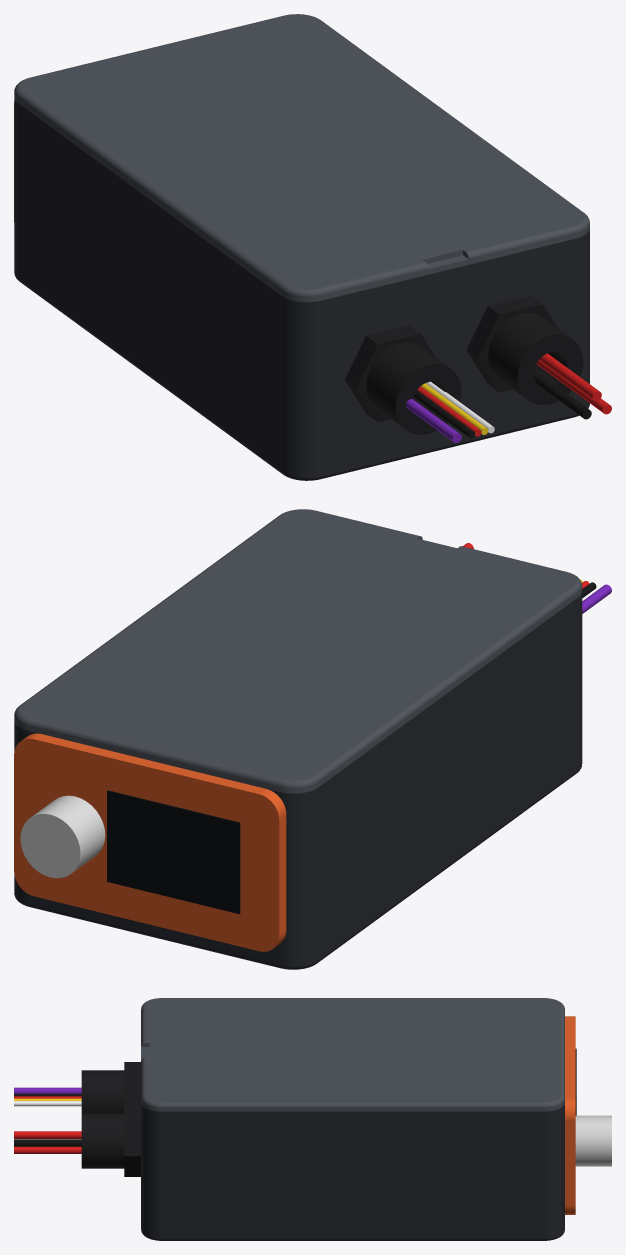
The model's file is wrangler_air_cust.glb.
The picture shows the model from 3 angles, top to bottom: view 1: azimuth 30°, elevation 25°; view 2: azimuth 150°, elevation 25°; view 3: azimuth 270°, elevation 25°; orthographic projection. The views are drawn at different scales.
Visible parts, largest first — view 1: box_cust_lid, box_cust_body, gland_M12_power, gland_M12_sensor_ARB, 12V_to_DinMeter_plus, GND_to_DinMeter_minus, relay_NO_to_ARB; view 2: box_cust_lid, box_cust_body, bezel, screen, knob; view 3: box_cust_body, box_cust_lid, gland_M12_power, gland_M12_sensor_ARB, bezel, knob, GND_to_DinMeter_minus, 12V_to_DinMeter_plus, 12V_to_relay_COM, relay_NO_to_ARB, W2_grove_PORT_A_to_sensor_white.
Boxes of the visible parts, x1=… form: box_cust_lid: x1=14, y1=14, x2=589, y2=302; box_cust_body: x1=14, y1=98, x2=589, y2=480; gland_M12_power: x1=466, y1=295, x2=583, y2=405; gland_M12_sensor_ARB: x1=345, y1=325, x2=461, y2=434; 12V_to_DinMeter_plus: x1=539, y1=353, x2=601, y2=400; GND_to_DinMeter_minus: x1=533, y1=369, x2=591, y2=419; relay_NO_to_ARB: x1=406, y1=399, x2=461, y2=443; box_cust_lid: x1=14, y1=509, x2=582, y2=793; box_cust_body: x1=14, y1=591, x2=582, y2=969; bezel: x1=14, y1=733, x2=286, y2=951; screen: x1=107, y1=790, x2=240, y2=914; knob: x1=20, y1=795, x2=105, y2=878; box_cust_body: x1=141, y1=1103, x2=564, y2=1240; box_cust_lid: x1=141, y1=998, x2=564, y2=1111; gland_M12_power: x1=81, y1=1105, x2=140, y2=1176; gland_M12_sensor_ARB: x1=81, y1=1062, x2=140, y2=1113; bezel: x1=565, y1=1016, x2=575, y2=1214; knob: x1=575, y1=1115, x2=611, y2=1166; GND_to_DinMeter_minus: x1=14, y1=1139, x2=81, y2=1146; 12V_to_DinMeter_plus: x1=14, y1=1131, x2=81, y2=1138; 12V_to_relay_COM: x1=14, y1=1146, x2=81, y2=1153; relay_NO_to_ARB: x1=14, y1=1087, x2=81, y2=1093; W2_grove_PORT_A_to_sensor_white: x1=14, y1=1101, x2=81, y2=1106.
Size of the model in its own units: 60 by 36 by 141.
